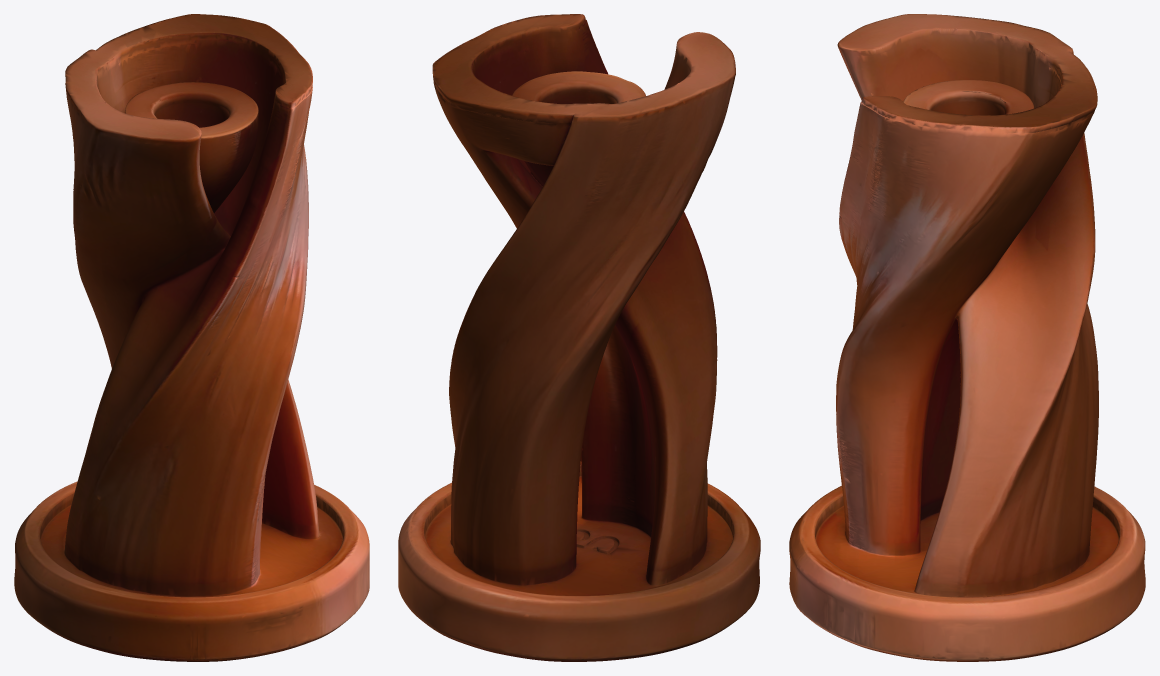
3 views of the same model, side by side, from view 1: azimuth 30°, elevation 25°; view 2: azimuth 150°, elevation 25°; view 3: azimuth 270°, elevation 25° (orthographic).
Parts seen in each view (by area): view 1: tripo_node_84b89e82-5a7c-4f4a-a33b-b18f90c71319; view 2: tripo_node_84b89e82-5a7c-4f4a-a33b-b18f90c71319; view 3: tripo_node_84b89e82-5a7c-4f4a-a33b-b18f90c71319.
Boxes of the visible parts, <box> form: tripo_node_84b89e82-5a7c-4f4a-a33b-b18f90c71319: <box>14,14,369,661</box>; tripo_node_84b89e82-5a7c-4f4a-a33b-b18f90c71319: <box>398,14,760,661</box>; tripo_node_84b89e82-5a7c-4f4a-a33b-b18f90c71319: <box>789,14,1145,661</box>.
Bounding box in the file's own units: 0.6149 × 0.9797 × 0.6131.
Materials: 1 (1 with a texture image).
